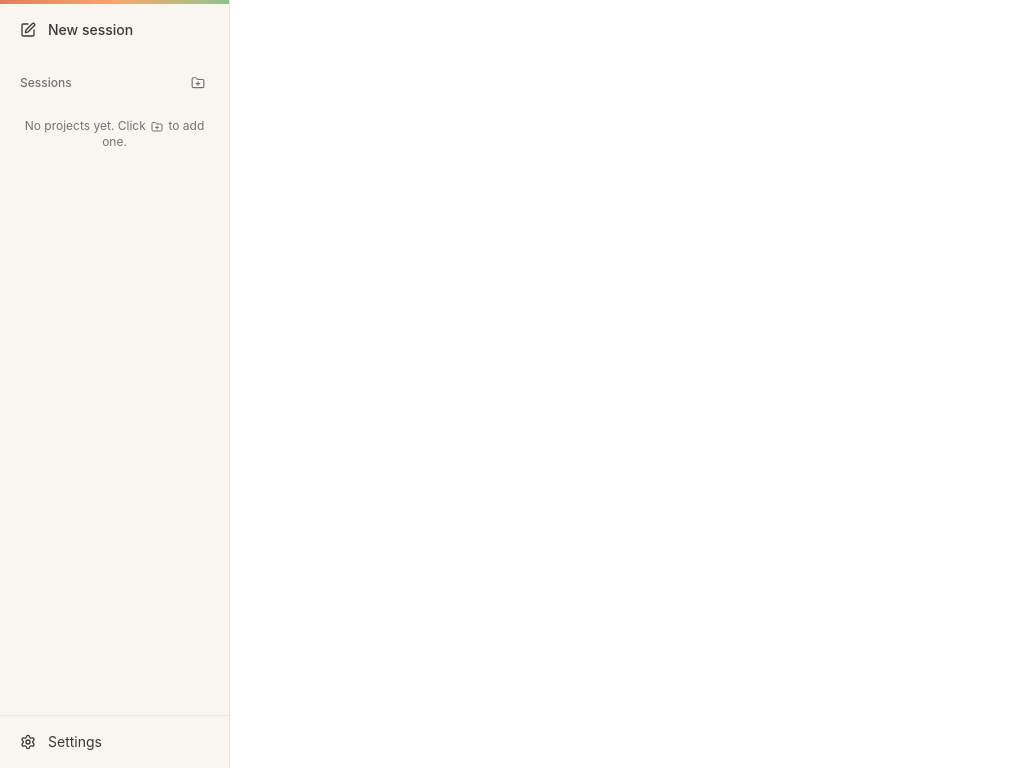
Test: Sidebar workspace controls › falls back to manual inputs when native picker cannot provide a usable path
Click the button named "Add a new directory". click: (198, 83)
box: [187,72,209,94]
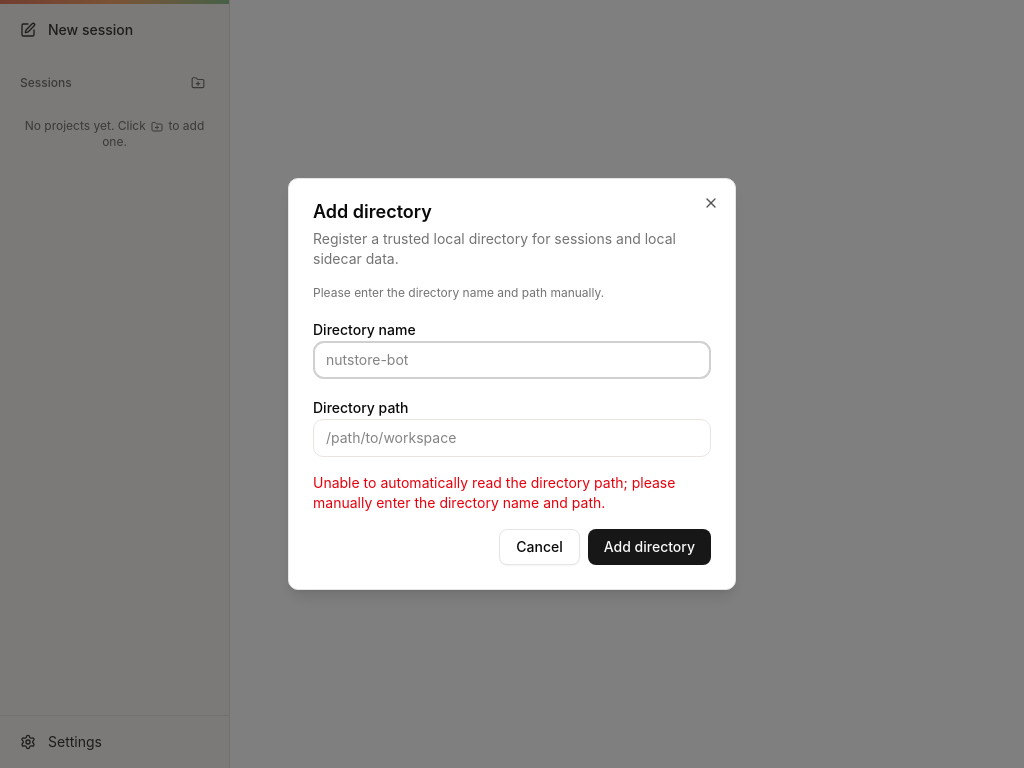
Now the text "Unable to automatically read the directory path; please manually enter the directory name and path." is shown, box [313,474,675,511]
Now the field labelled "Directory name" is shown, box [313,341,711,379]
Now the field labelled "Directory path" is shown, box [313,419,711,457]
